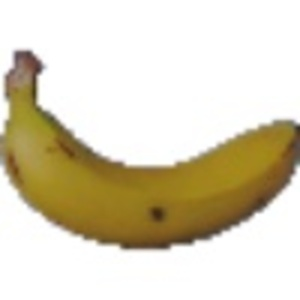banana: (4, 44, 298, 255)
